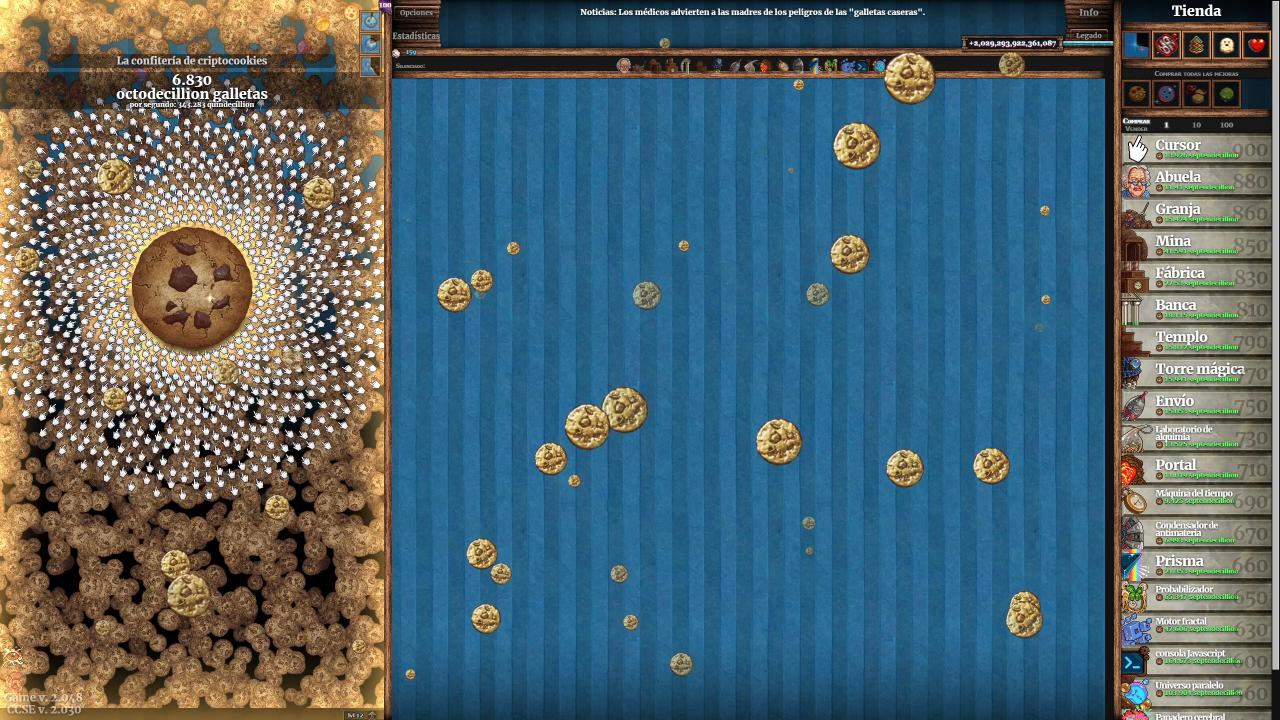GoldenCookie: (883, 51, 938, 107), (832, 120, 883, 171), (754, 416, 804, 468), (563, 402, 612, 452), (602, 385, 650, 434), (165, 572, 213, 620), (829, 233, 871, 276), (885, 446, 926, 490), (972, 446, 1012, 487), (96, 157, 134, 197), (1005, 601, 1045, 639), (436, 276, 473, 314), (533, 441, 569, 477), (302, 176, 336, 212), (465, 537, 499, 572), (470, 602, 503, 636), (631, 279, 663, 311), (160, 549, 192, 580), (1009, 591, 1043, 619), (212, 357, 241, 387), (264, 494, 292, 522), (999, 51, 1027, 79), (14, 246, 41, 274), (102, 384, 128, 413), (669, 650, 695, 679), (805, 281, 832, 308), (470, 268, 495, 293), (21, 340, 44, 364), (490, 563, 514, 586), (22, 158, 44, 180), (610, 563, 630, 585), (621, 613, 640, 632), (800, 514, 818, 532), (352, 636, 368, 655), (506, 240, 522, 256), (567, 473, 583, 488), (658, 35, 673, 51), (404, 666, 418, 682), (677, 238, 691, 253), (793, 78, 806, 91), (1040, 204, 1052, 217), (1040, 294, 1052, 306), (805, 544, 815, 556)
